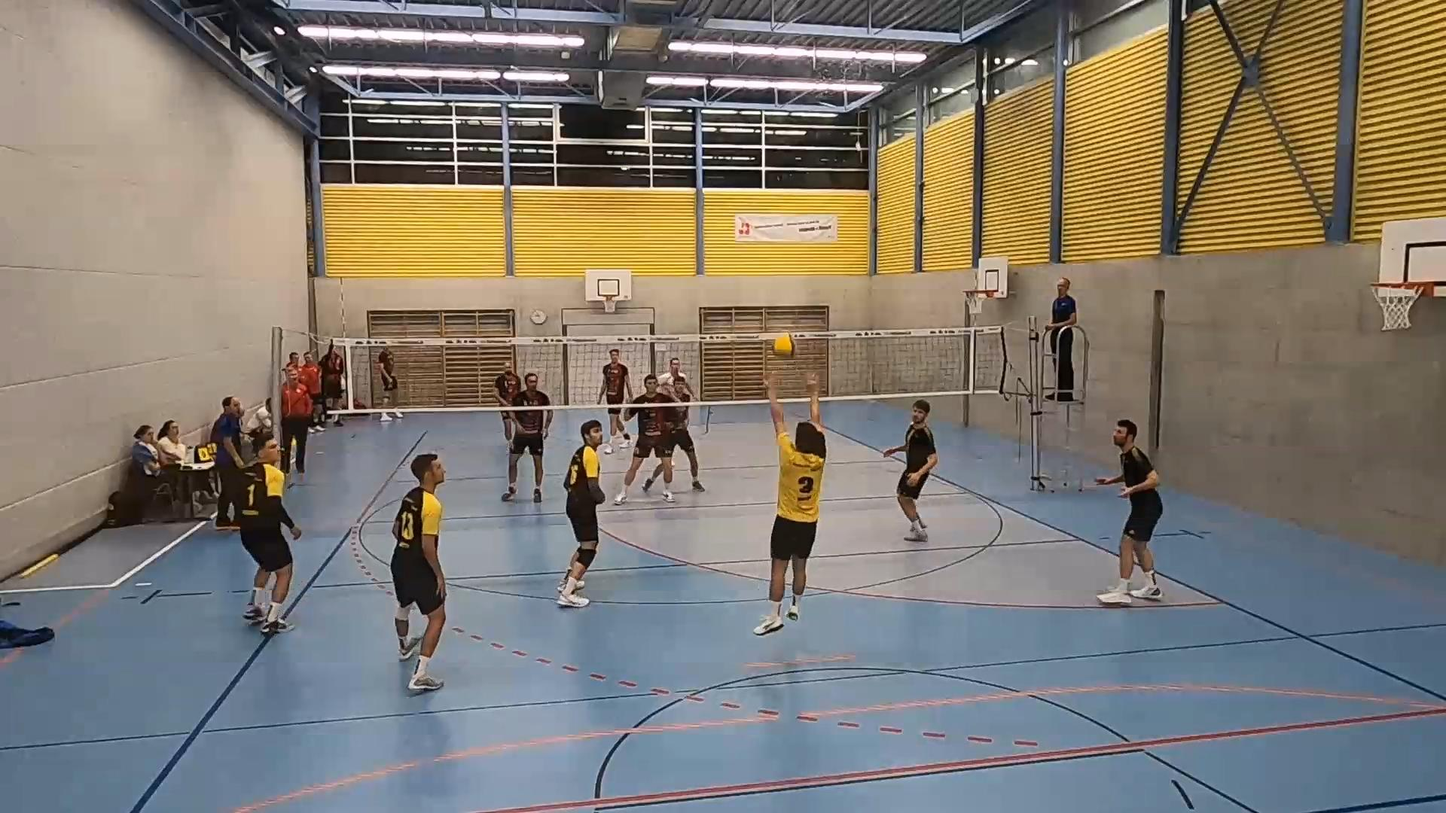Player: (390, 454, 446, 691), (1096, 419, 1162, 605), (239, 437, 301, 635), (557, 420, 606, 607), (614, 373, 675, 504), (883, 399, 938, 541), (502, 373, 552, 502), (659, 374, 705, 491), (598, 349, 632, 453), (493, 362, 521, 406)
Receive: (755, 371, 837, 641)
ball: (766, 337, 800, 358)
